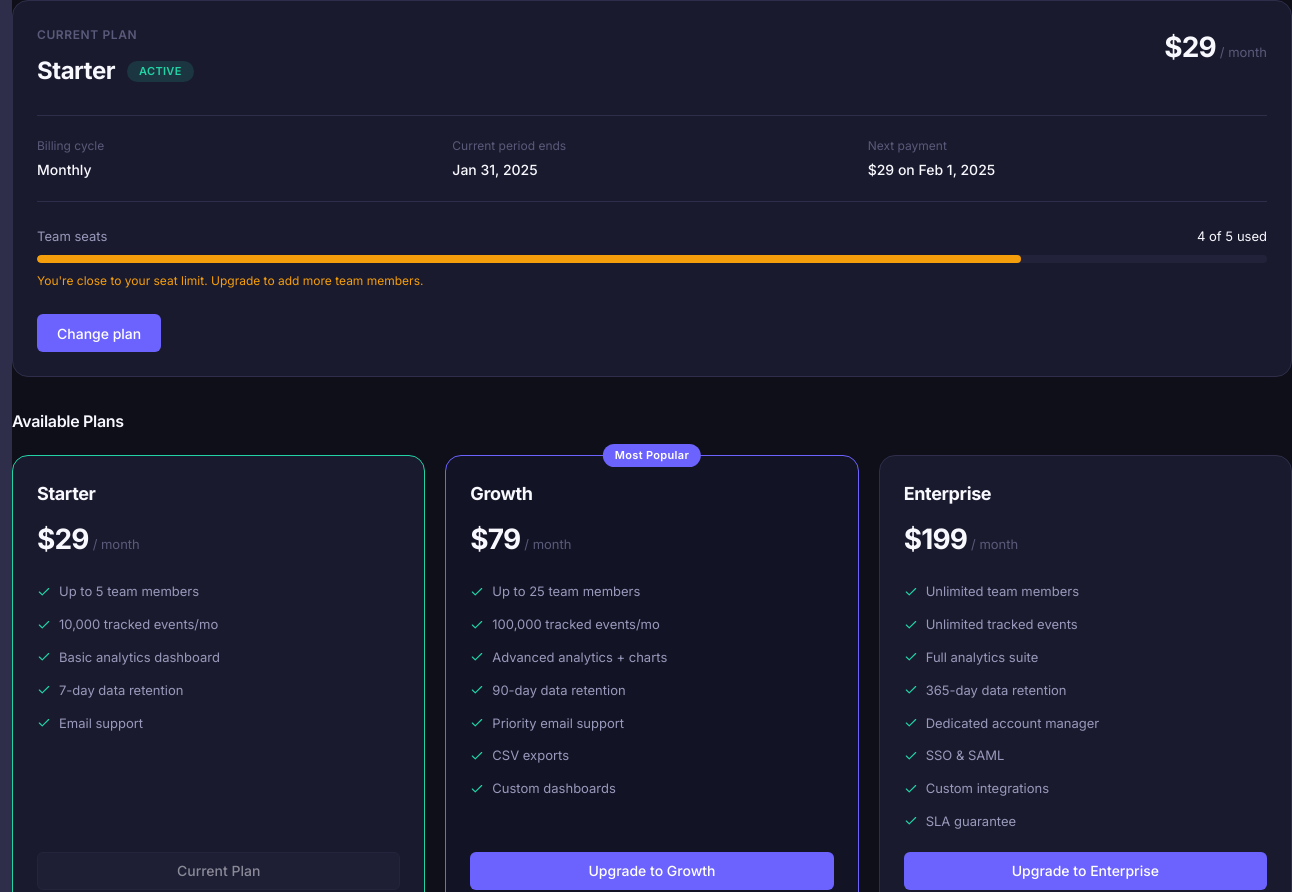
Test case: upgrading switches the current plan and confirms it
The width and height of the screenshot is (1292, 892).
Click the button "Upgrade to Growth" at (652, 871), box [470,852,834,890]
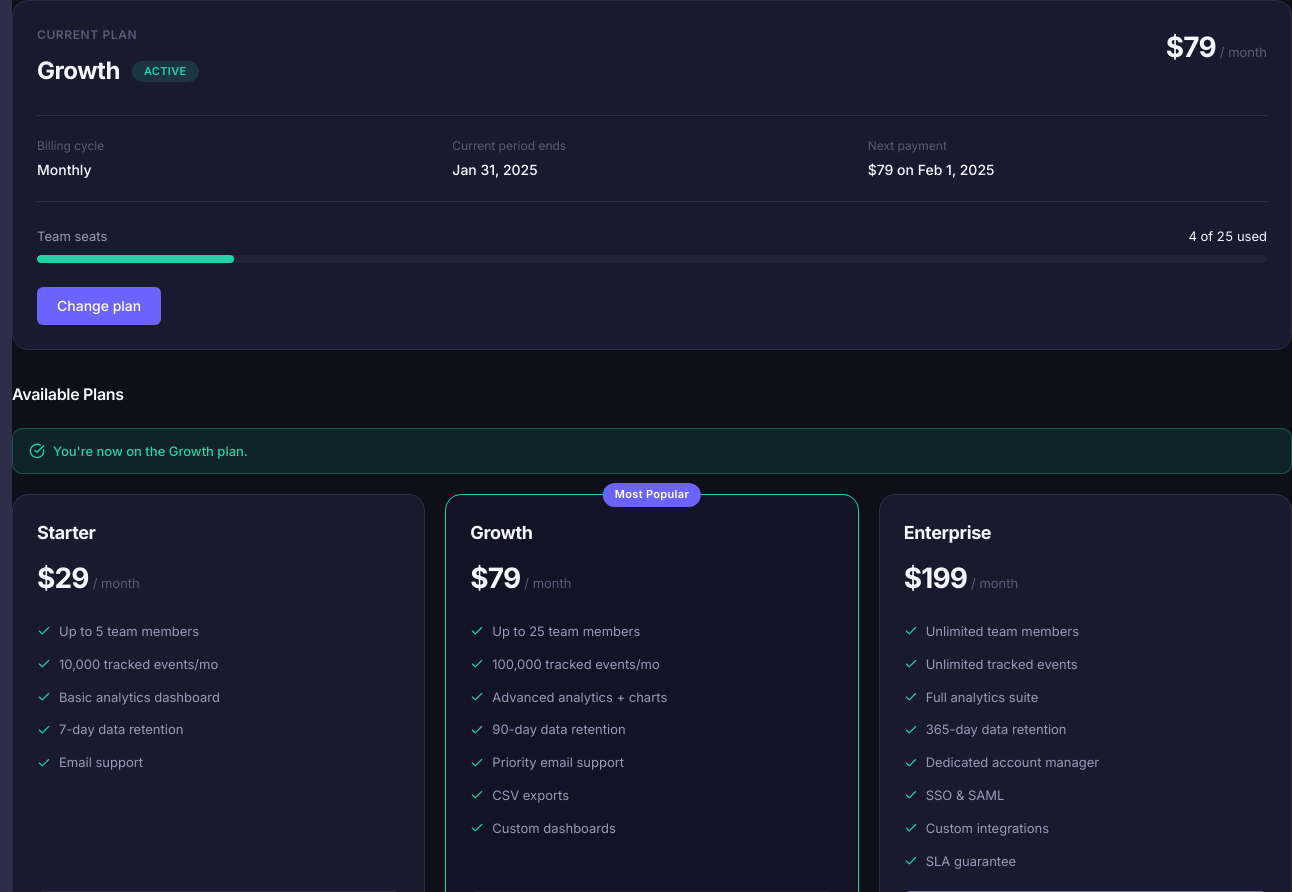
Check: the heading "Growth" next to "Active" is shown, box [37,56,120,85]
Check: the message reads "You're now on the Growth plan.", box [53,442,248,458]
Check: the text "4 of 25 used" is shown, box [1188,226,1267,247]
